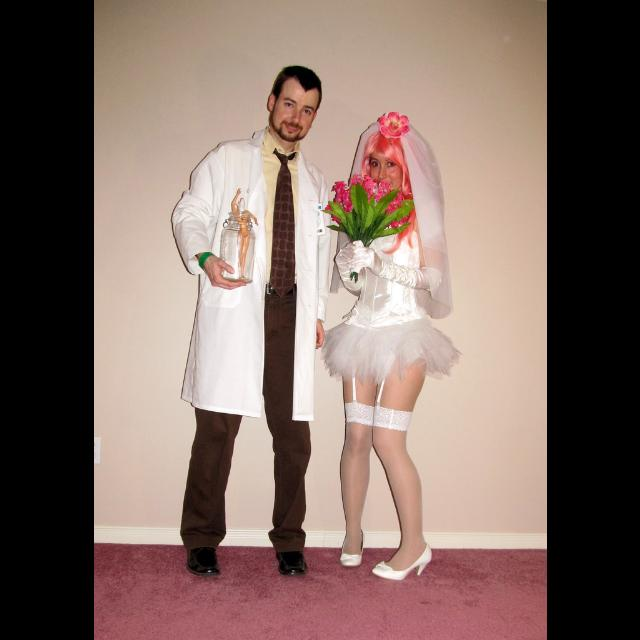Flower: (320, 172, 410, 234), (372, 108, 410, 140)
